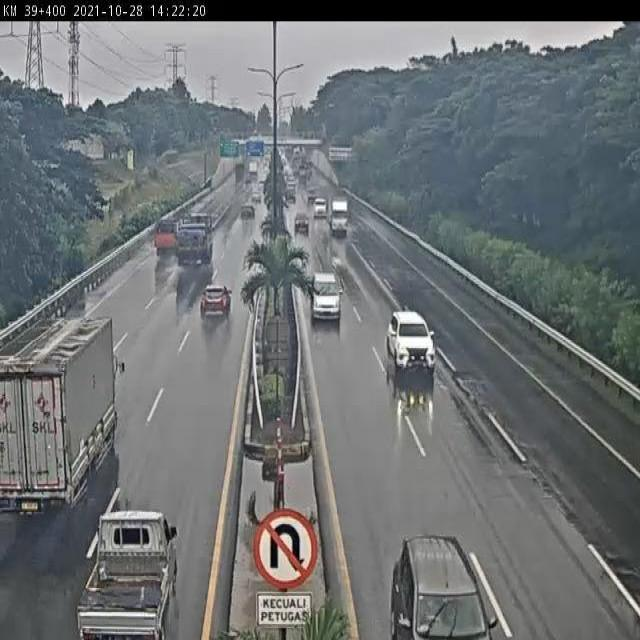car: (75, 508, 180, 640), (385, 305, 436, 375), (307, 267, 343, 324), (197, 283, 234, 324)
truck-l-: (0, 311, 119, 517), (169, 218, 213, 274)
truck-s-: (146, 221, 178, 263)
